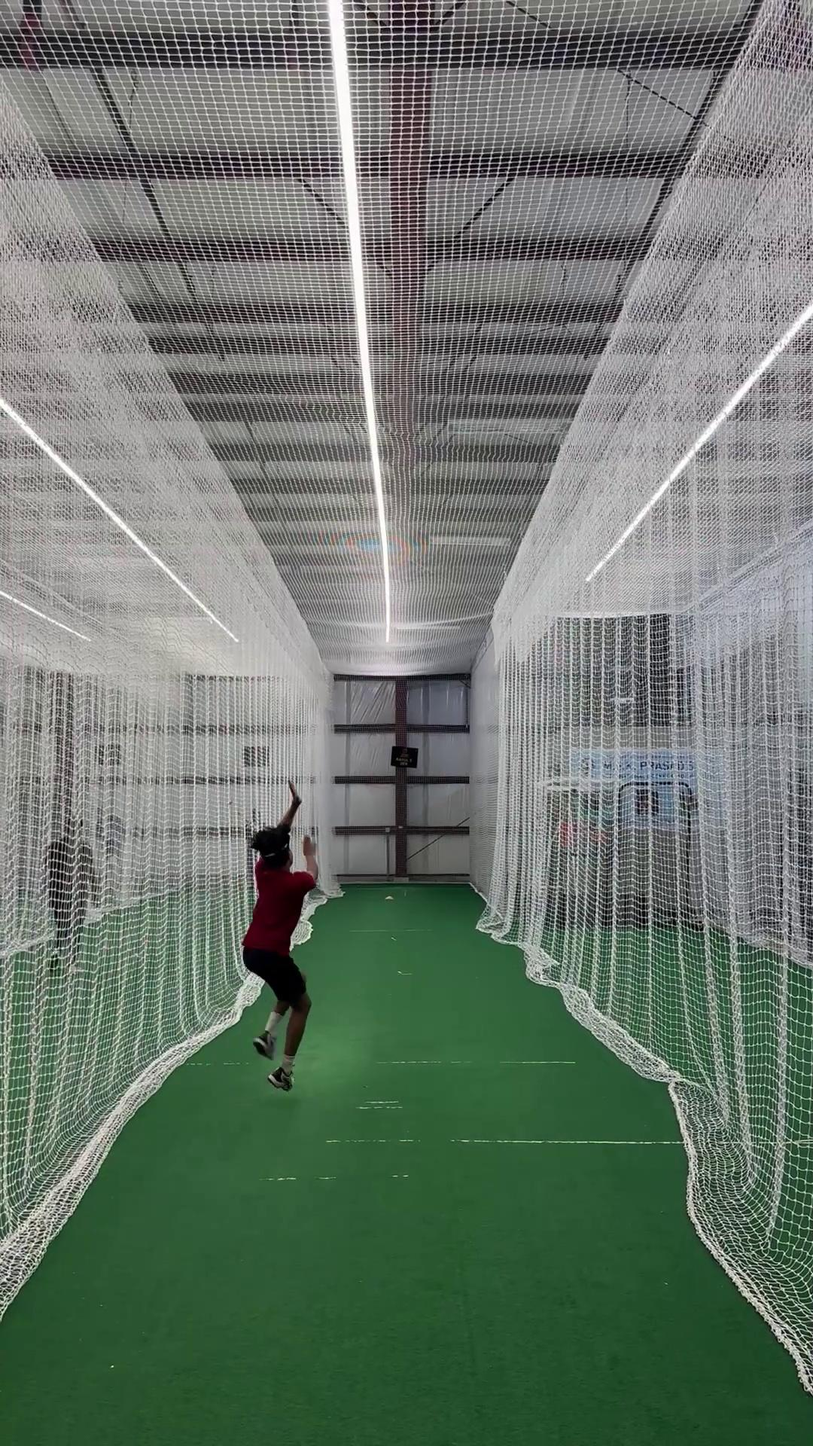ball: (296, 830, 316, 851)
